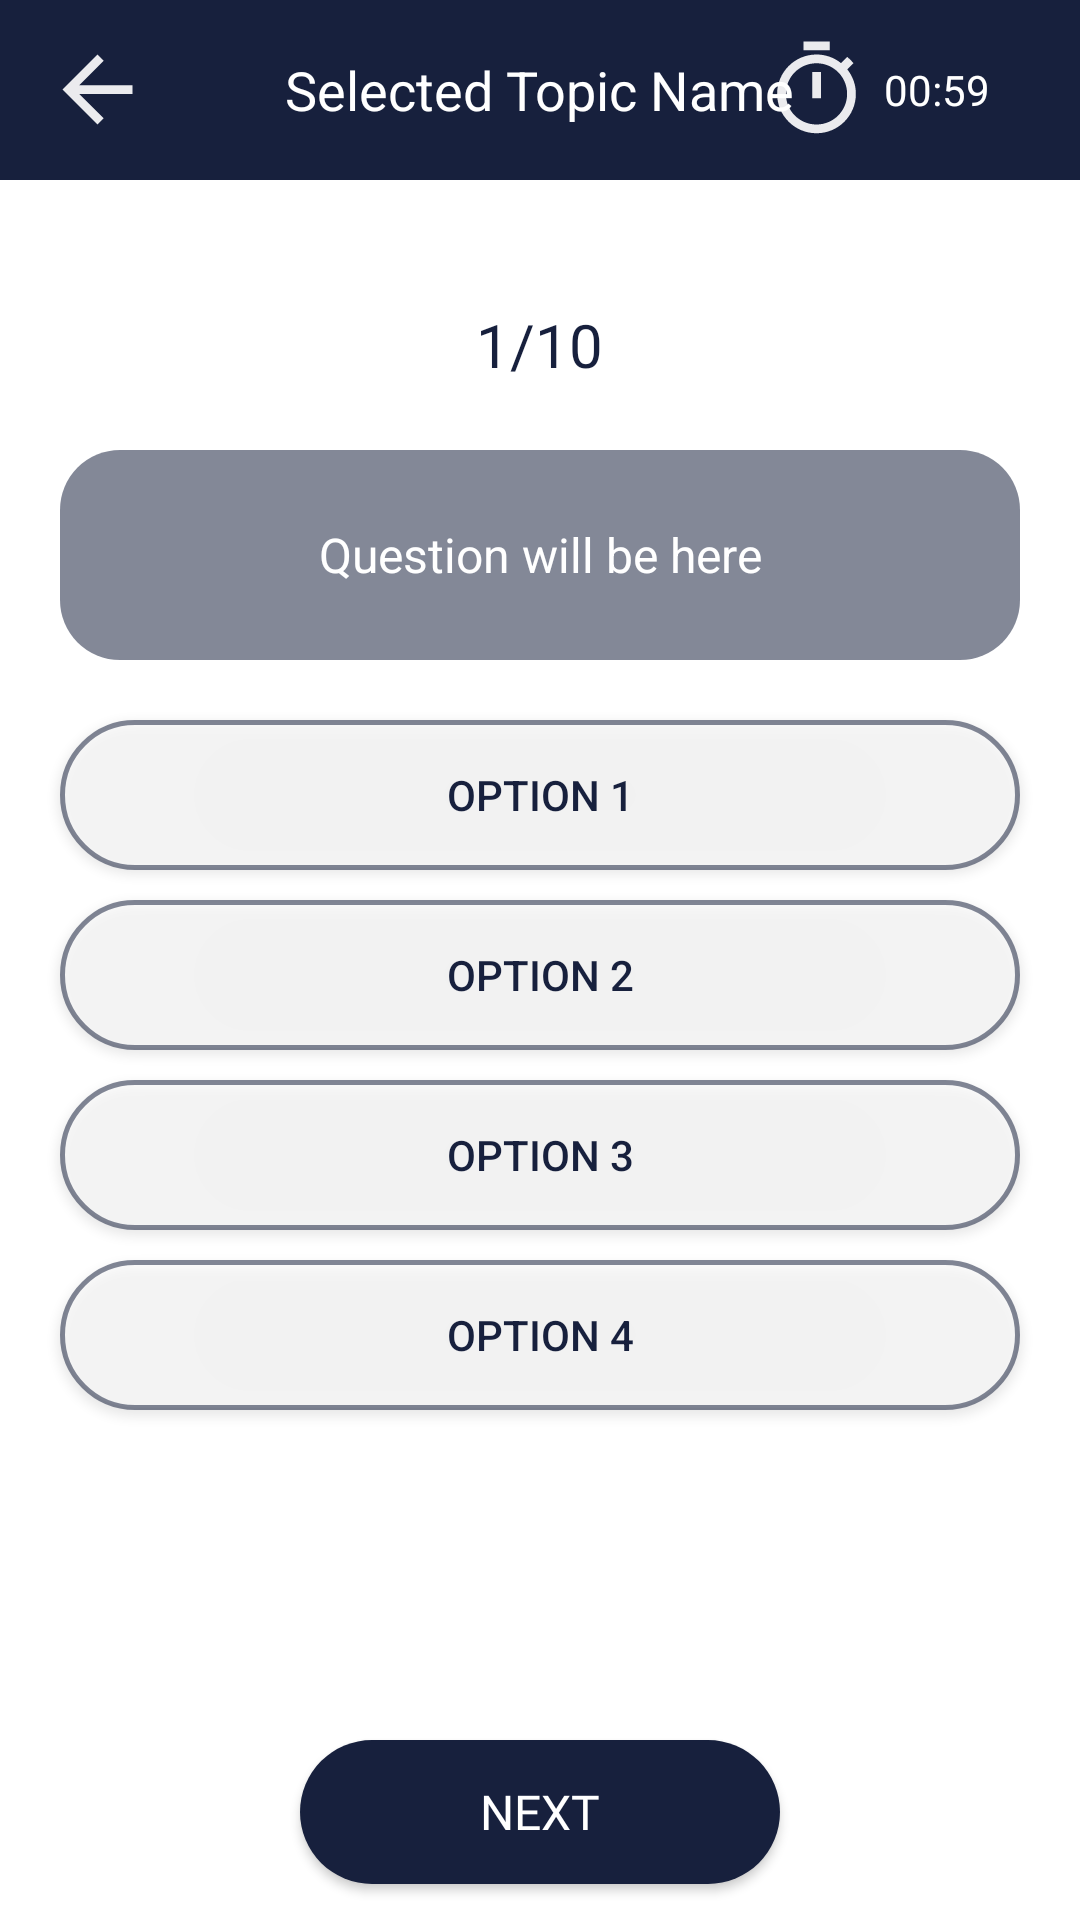

Named icons in this screenshot (1080*1920) and their centers, (x,y):
back: (97,89)
